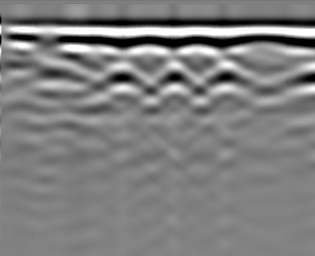pipe: (34, 31, 68, 50)
steel: (98, 66, 148, 98), (155, 66, 195, 98), (206, 68, 246, 99)
